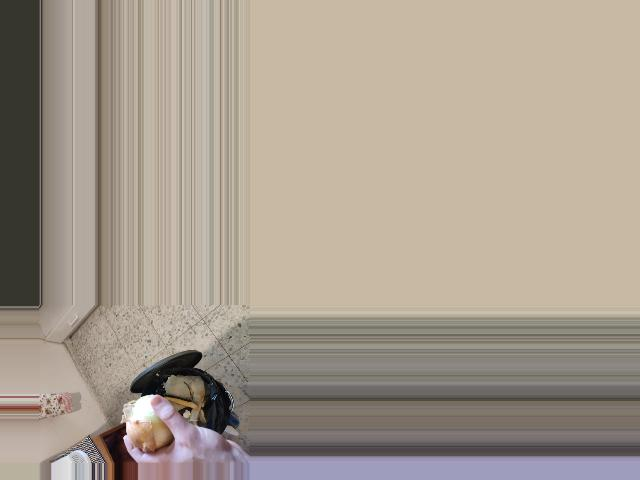onion: (124, 398, 178, 447)
